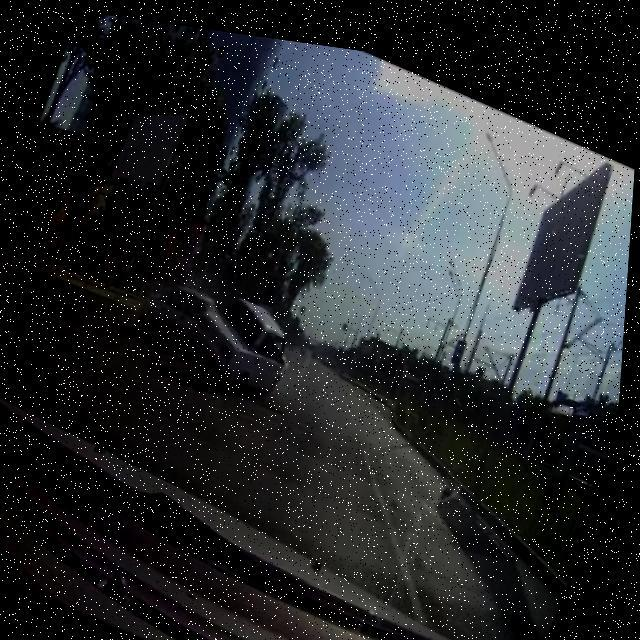Car Accident Detector - v4 Generation1 Exported: (125, 248, 315, 404)
